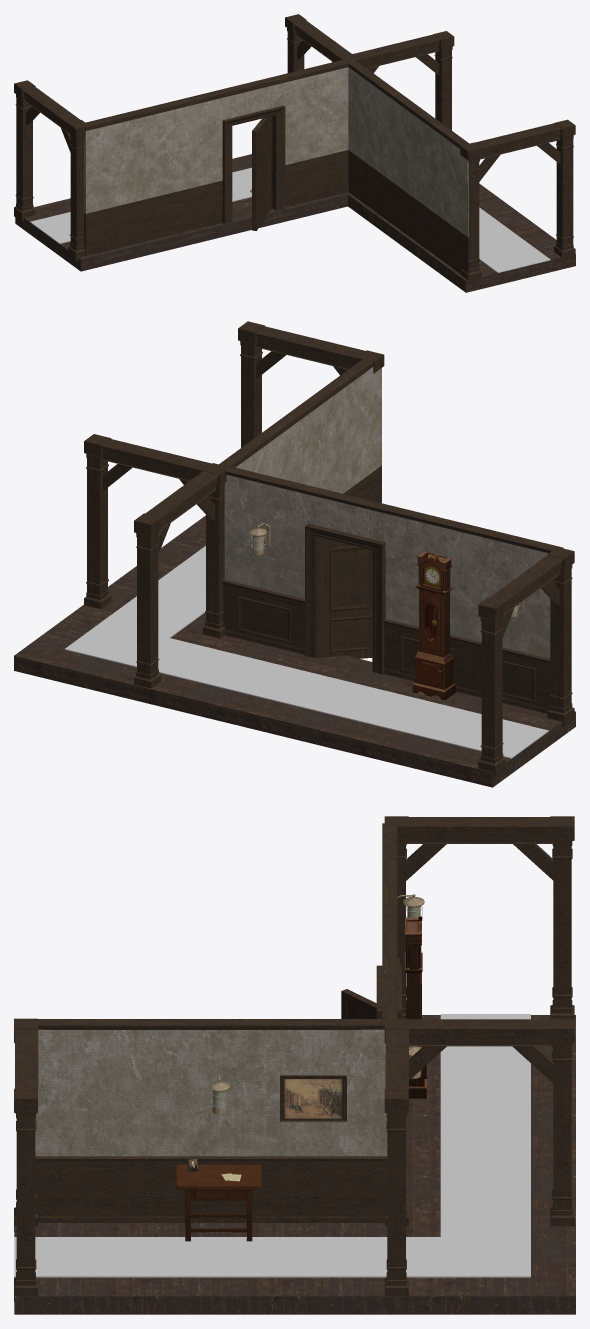
The model's file is environment.fbx.
The picture shows the model from 3 angles, top to bottom: view 1: azimuth 30°, elevation 25°; view 2: azimuth 150°, elevation 25°; view 3: azimuth 270°, elevation 25°; orthographic projection. The views are drawn at different scales.
Visible parts, largest first — view 1: Walls, Archway_And_Doorway, Floor, Door; view 2: Walls, Floor, Archway_And_Doorway, Door, Clock, Wainscoting; view 3: Floor, Walls, Archway_And_Doorway, Sidetable, pCube15, Clock, Door.
Boxes of the visible parts, box(x1,y1,x2,y2) form: Walls: box(84, 60, 468, 273); Archway_And_Doorway: box(14, 14, 575, 284); Floor: box(15, 154, 575, 292); Door: box(250, 116, 272, 230); Walls: box(219, 359, 563, 713); Floor: box(14, 515, 575, 787); Archway_And_Doorway: box(84, 321, 574, 777); Door: box(318, 537, 372, 658); Clock: box(412, 551, 455, 700); Wainscoting: box(237, 596, 535, 702); Floor: box(14, 1014, 575, 1314); Walls: box(35, 823, 399, 1222); Archway_And_Doorway: box(14, 816, 574, 1301); Sidetable: box(176, 1164, 261, 1241); pCube15: box(280, 1075, 346, 1121); Clock: box(404, 916, 426, 1098); Door: box(341, 989, 376, 1018).
Bounding box in the file's own units: 901 × 320 × 757.
